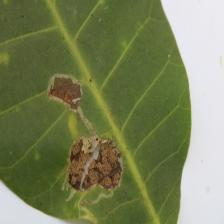leaf miner: (0, 0, 192, 223), (46, 72, 124, 202), (66, 134, 123, 192)
